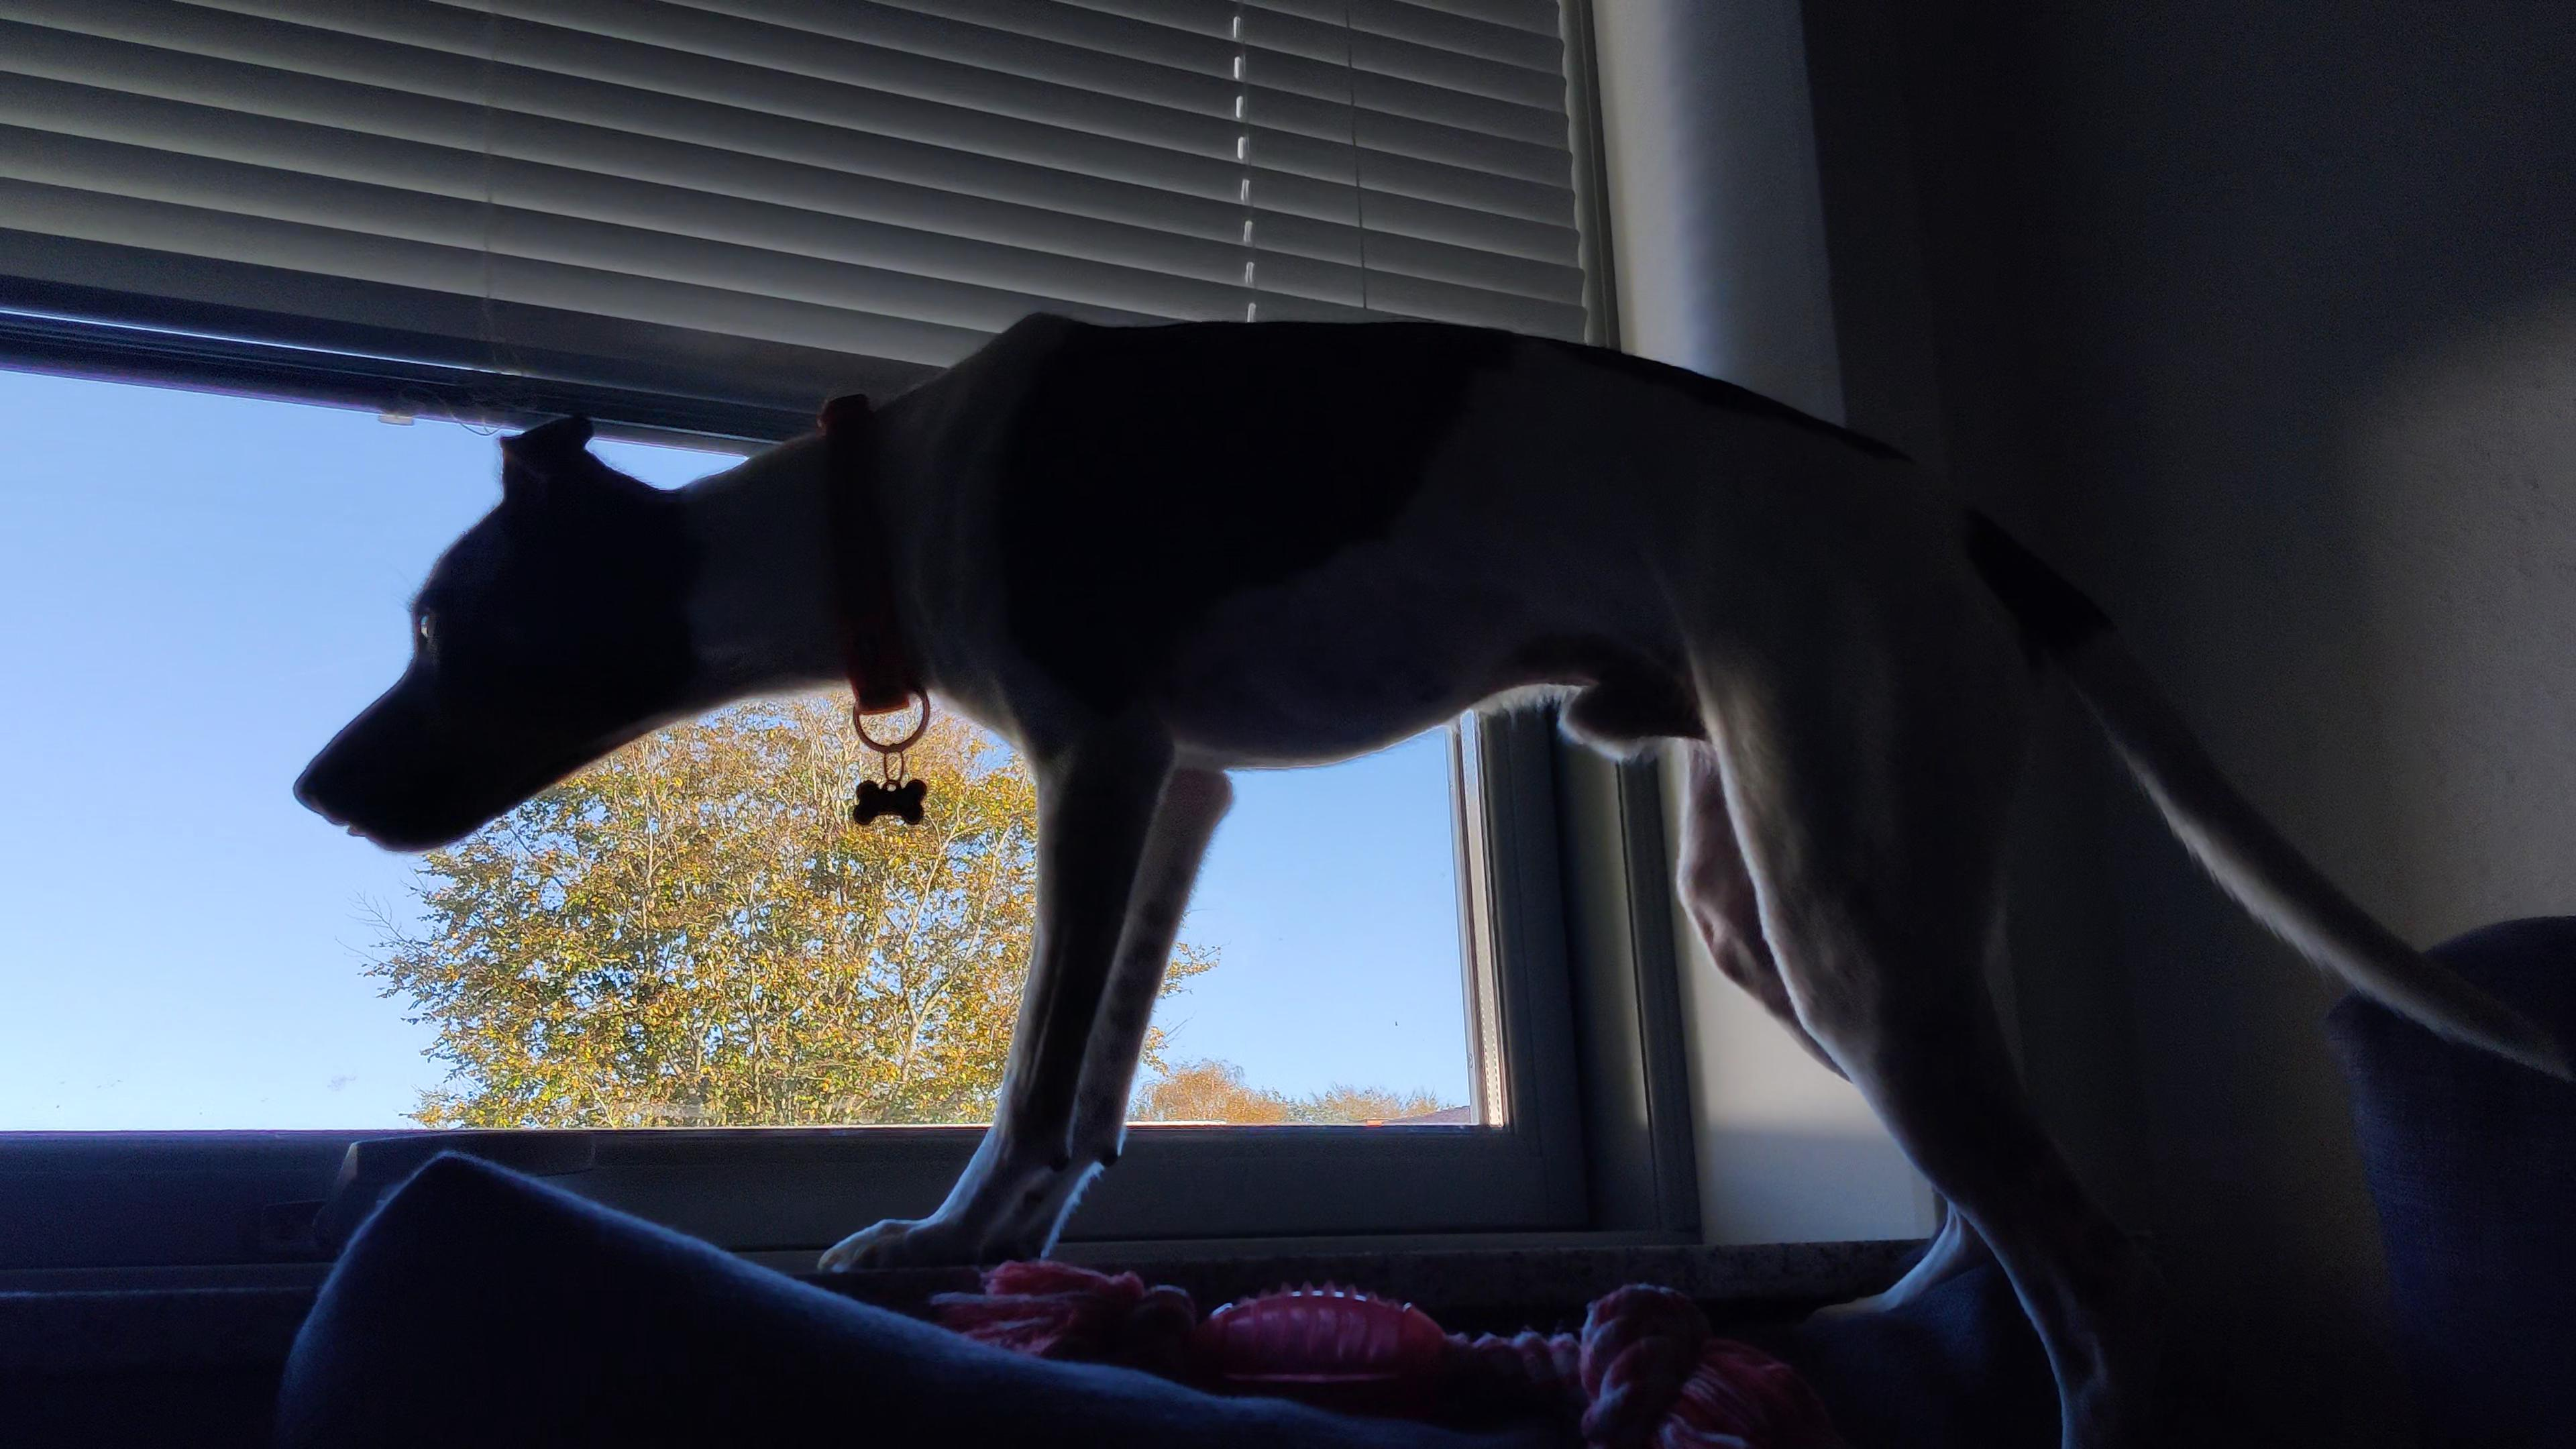Dog: (287, 308, 2576, 1449)
